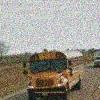buses: (22, 50, 83, 100)
